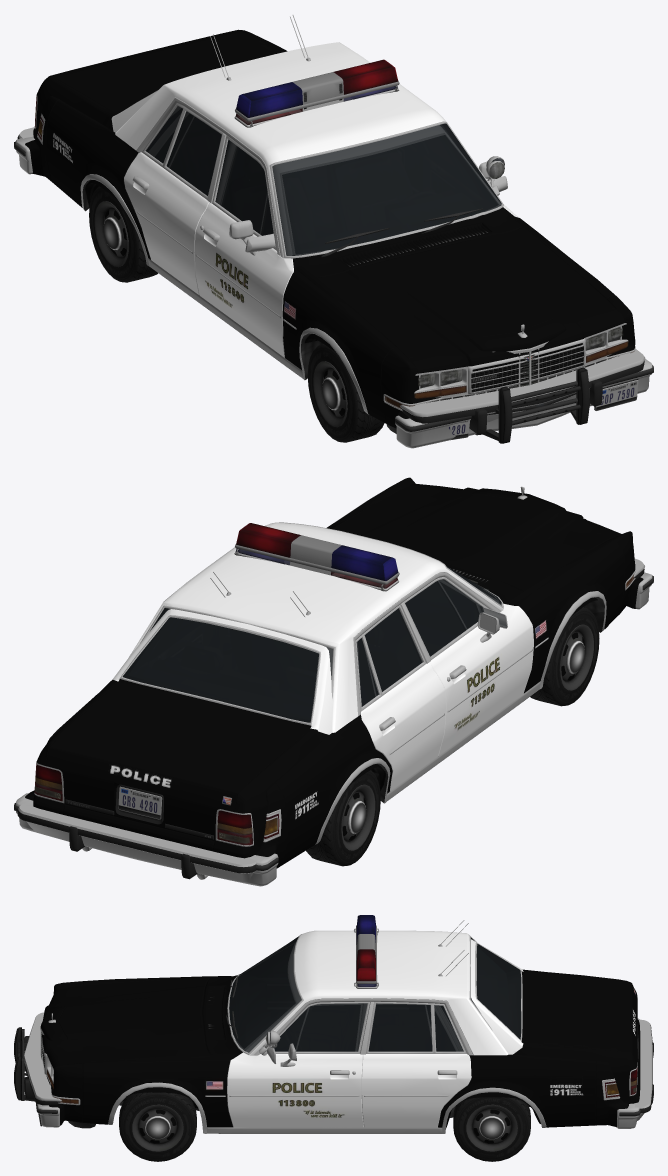
Rendered from police-cars.glb.
3 views of the same model, one above another, from view 1: azimuth 30°, elevation 25°; view 2: azimuth 150°, elevation 25°; view 3: azimuth 270°, elevation 25° (orthographic). The views are drawn at different scales.
Visible parts, largest first — view 1: Negotiator80_Body_Negotiator80_Bodymat_0, Negotiator80_Windshield_UCB_Lights_and_Glass_Transperent_0, Fairheaven_LT80_Hood001_Fairheaven_LT80_Bodymat_0, Fairheaven_LT80_Windshield001_UCB_Lights_and_Glass_Transpere, Negotiator80_bottom_UCB_BOTTOM_0, Fairheaven_LT80_body001_Fairheaven_LT80_Bodymat_0, Negotiator80_Hood_Negotiator80_Bodymat_0, Fairheaven_LT80_trunk_door001_Fairheaven_LT80_Bodymat_0, Fairheaven_LT80_Front_Plate_Inner001_UCB_BOTTOM_GT_0, Fairheaven_LT80_Bumper_Front001_UCB_BOTTOM_GT_0, Negotiator80_Lightbar_UCB_Lights_and_Glass_0, Negotiator80_WheelStock_FR_RB1c_Tire_1k_0 (+13 smaller); view 2: Negotiator80_Body_Negotiator80_Bodymat_0, Fairheaven_LT80_trunk_door001_Fairheaven_LT80_Bodymat_0, Fairheaven_LT80_Glass_Rear001_UCB_Lights_and_Glass_Transpere, Negotiator80_Glass_back_UCB_Lights_and_Glass_Transperent_0, Fairheaven_LT80_body001_Fairheaven_LT80_Bodymat_0, Fairheaven_LT80_Hood001_Fairheaven_LT80_Bodymat_0, Negotiator80_bottom_UCB_BOTTOM_0, Negotiator80_Hood_Negotiator80_Bodymat_0, Fairheaven_LT80_bumper_rear001_UCB_BOTTOM_GT_0, Negotiator80_Lightbar_UCB_Lights_and_Glass_0, Negotiator80_WheelStock_RR_RB1c_Tire_1k_0, Negotiator80_WheelStock_FR_RB1c_Tire_1k_0 (+11 smaller); view 3: Negotiator80_Body_Negotiator80_Bodymat_0, Fairheaven_LT80_trunk_door001_Fairheaven_LT80_Bodymat_0, Negotiator80_bottom_UCB_BOTTOM_0, Fairheaven_LT80_Hood001_Fairheaven_LT80_Bodymat_0, Fairheaven_LT80_body001_Fairheaven_LT80_Bodymat_0, Negotiator80_Windshield_UCB_Lights_and_Glass_Transperent_0, Negotiator80_WheelStock_FL_RB1c_Tire_1k_0, Negotiator80_Hood_Negotiator80_Bodymat_0, Negotiator80_WheelStock_RL_RB1c_Tire_1k_0, Fairheaven_LT80_Windshield001_UCB_Lights_and_Glass_Transpere, Negotiator80_Bodyglass_UCB_Lights_and_Glass_Transperent_0, Negotiator80_Glass_Driver_UCB_Lights_and_Glass_Transperent_0 (+12 smaller).
Boxes of the visible parts, x1,y1,x2,y2 form: Negotiator80_Body_Negotiator80_Bodymat_0: (25, 42, 635, 428); Negotiator80_Windshield_UCB_Lights_and_Glass_Transperent_0: (272, 123, 501, 255); Fairheaven_LT80_Hood001_Fairheaven_LT80_Bodymat_0: (316, 227, 625, 373); Fairheaven_LT80_Windshield001_UCB_Lights_and_Glass_Transpere: (283, 135, 497, 253); Negotiator80_bottom_UCB_BOTTOM_0: (37, 97, 635, 433); Fairheaven_LT80_body001_Fairheaven_LT80_Bodymat_0: (33, 29, 583, 352); Negotiator80_Hood_Negotiator80_Bodymat_0: (348, 266, 614, 358); Fairheaven_LT80_trunk_door001_Fairheaven_LT80_Bodymat_0: (50, 30, 281, 114); Fairheaven_LT80_Front_Plate_Inner001_UCB_BOTTOM_GT_0: (414, 323, 628, 398); Fairheaven_LT80_Bumper_Front001_UCB_BOTTOM_GT_0: (400, 348, 645, 434); Negotiator80_Lightbar_UCB_Lights_and_Glass_0: (235, 59, 399, 127); Negotiator80_WheelStock_FR_RB1c_Tire_1k_0: (307, 344, 381, 442); Negotiator80_Body_Negotiator80_Bodymat_0: (25, 477, 643, 868); Fairheaven_LT80_trunk_door001_Fairheaven_LT80_Bodymat_0: (46, 681, 309, 840); Fairheaven_LT80_Glass_Rear001_UCB_Lights_and_Glass_Transpere: (122, 617, 318, 722); Negotiator80_Glass_back_UCB_Lights_and_Glass_Transperent_0: (129, 608, 333, 719); Fairheaven_LT80_body001_Fairheaven_LT80_Bodymat_0: (33, 503, 597, 858); Fairheaven_LT80_Hood001_Fairheaven_LT80_Bodymat_0: (333, 483, 621, 591); Negotiator80_bottom_UCB_BOTTOM_0: (140, 486, 635, 844); Negotiator80_Hood_Negotiator80_Bodymat_0: (381, 486, 614, 570); Fairheaven_LT80_bumper_rear001_UCB_BOTTOM_GT_0: (17, 802, 256, 881); Negotiator80_Lightbar_UCB_Lights_and_Glass_0: (235, 523, 399, 591); Negotiator80_WheelStock_RR_RB1c_Tire_1k_0: (308, 770, 380, 866); Negotiator80_WheelStock_FR_RB1c_Tire_1k_0: (531, 607, 599, 706); Negotiator80_Body_Negotiator80_Bodymat_0: (40, 930, 628, 1127); Fairheaven_LT80_trunk_door001_Fairheaven_LT80_Bodymat_0: (523, 972, 637, 1064); Negotiator80_bottom_UCB_BOTTOM_0: (40, 934, 620, 1133); Fairheaven_LT80_Hood001_Fairheaven_LT80_Bodymat_0: (42, 977, 209, 1069); Fairheaven_LT80_body001_Fairheaven_LT80_Bodymat_0: (80, 939, 640, 1127); Negotiator80_Windshield_UCB_Lights_and_Glass_Transperent_0: (230, 936, 301, 1052); Negotiator80_WheelStock_FL_RB1c_Tire_1k_0: (119, 1092, 196, 1161); Negotiator80_Hood_Negotiator80_Bodymat_0: (58, 980, 161, 1064); Negotiator80_WheelStock_RL_RB1c_Tire_1k_0: (453, 1097, 530, 1161); Fairheaven_LT80_Windshield001_UCB_Lights_and_Glass_Transpere: (229, 945, 294, 1047); Negotiator80_Bodyglass_UCB_Lights_and_Glass_Transperent_0: (368, 1003, 463, 1051); Negotiator80_Glass_Driver_UCB_Lights_and_Glass_Transperent_0: (274, 1003, 367, 1051).
Bounding box in the file's own units: 1.87 × 1.6 × 5.07.
15 materials, 15 textured.
